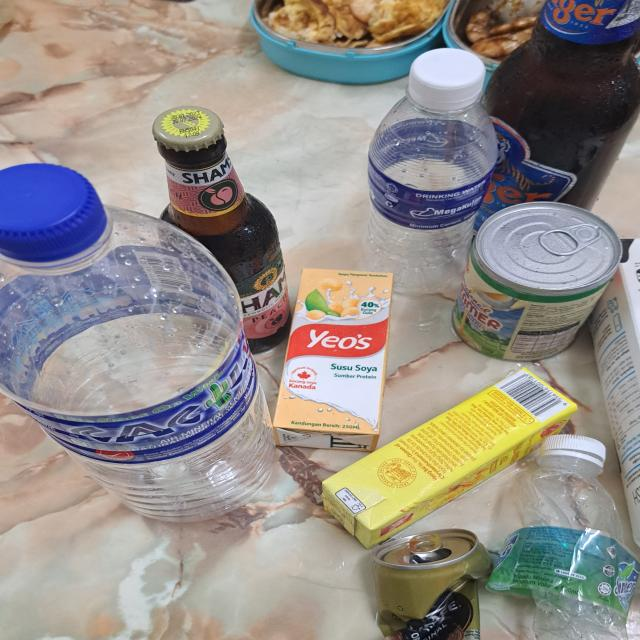can: (451, 202, 623, 360)
drink carton: (322, 366, 577, 553), (274, 269, 392, 454), (593, 238, 640, 549)
glass bottle: (150, 106, 292, 354), (478, 0, 639, 211)
plastic bottle: (0, 206, 277, 523), (483, 457, 640, 640), (365, 97, 498, 295), (369, 528, 492, 640)
plastic bottle cap: (0, 162, 107, 262), (410, 48, 485, 103), (539, 433, 606, 470)
pop tab: (538, 223, 602, 256), (409, 532, 442, 553)
